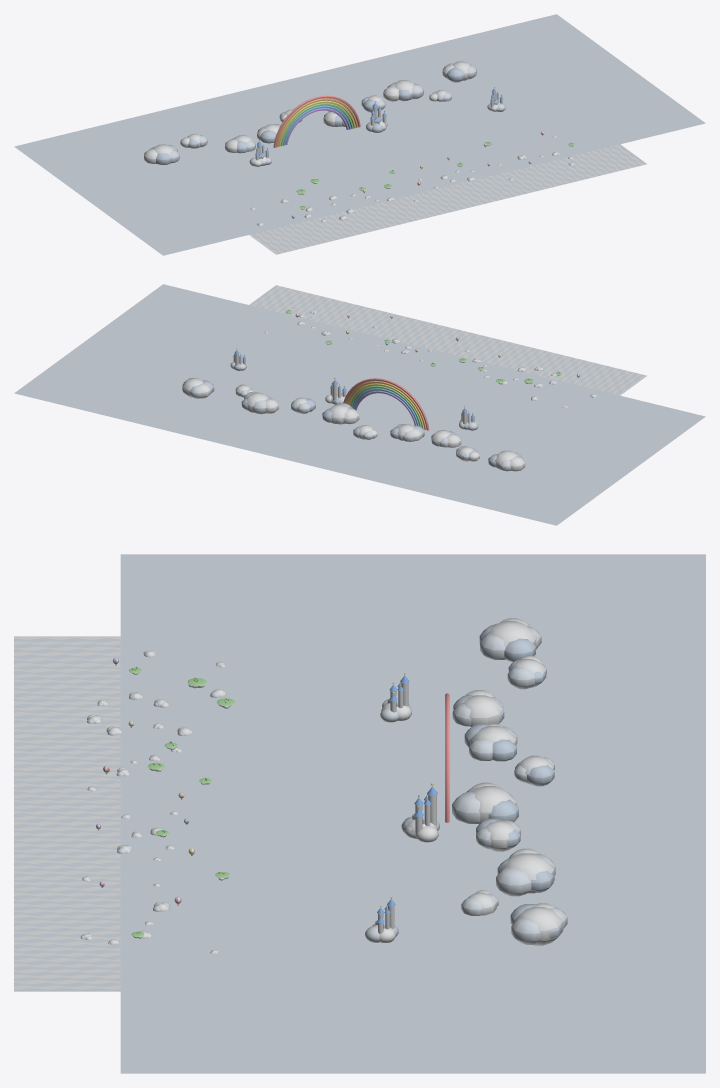
Rendered from clouds-far.glb.
3 renders of one model, top to bottom at view 1: azimuth 30°, elevation 25°; view 2: azimuth 150°, elevation 25°; view 3: azimuth 270°, elevation 25°, orthographic. The views are drawn at different scales.
Visible parts, largest first — view 1: clouds-far; view 2: clouds-far; view 3: clouds-far.
Part boxes in pixels (x1,y1,x2,y2): clouds-far: (14,14,705,255); clouds-far: (14,284,705,525); clouds-far: (14,554,705,1073).
Bounding box in the file's own units: 1900 × 153 × 1070.
